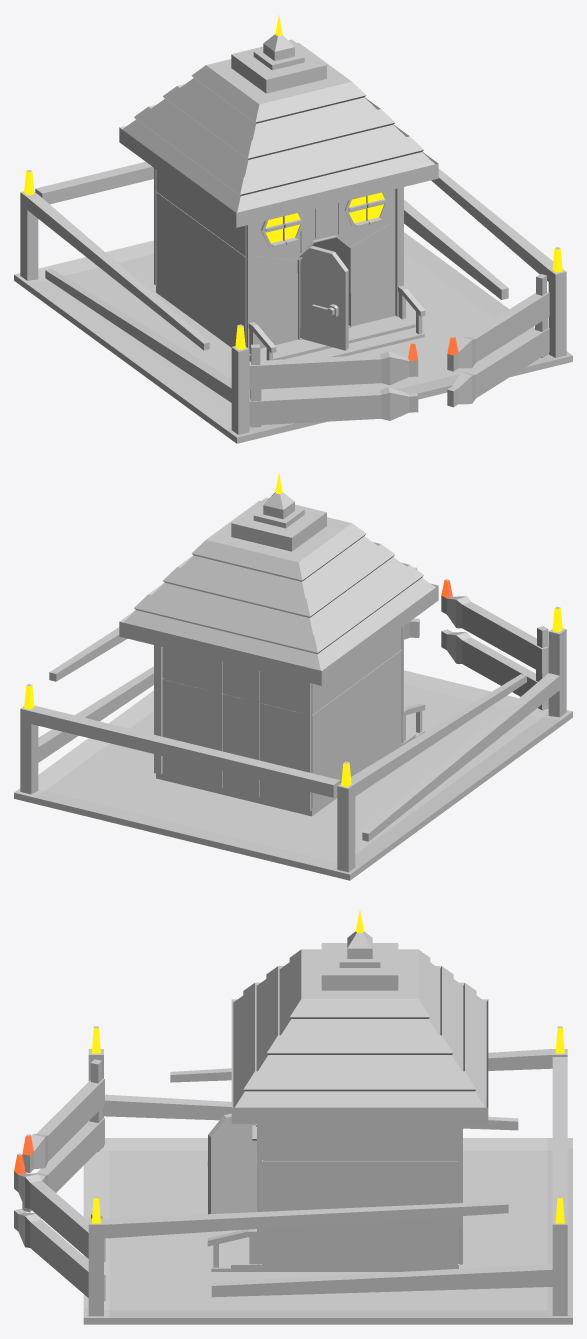
File: house.gltf
The picture shows the model from 3 angles, top to bottom: view 1: azimuth 30°, elevation 25°; view 2: azimuth 150°, elevation 25°; view 3: azimuth 270°, elevation 25°; orthographic projection. The views are drawn at different scales.
Visible parts, largest first — view 1: Cube, Cube.004, Cube.003, Cube.002, Cube.001; view 2: Cube, Cube.004, Cube.003; view 3: Cube, Cube.004, Cube.002, Cube.003, Cube.001.
Part boxes in pixels (x1,y1,x2,y2): Cube: [20, 15, 566, 434]; Cube.004: [14, 232, 572, 443]; Cube.003: [249, 342, 418, 427]; Cube.002: [447, 274, 549, 407]; Cube.001: [299, 246, 348, 350]; Cube: [20, 473, 566, 872]; Cube.004: [14, 670, 572, 880]; Cube.003: [441, 579, 548, 710]; Cube: [88, 910, 567, 1316]; Cube.004: [83, 1138, 572, 1324]; Cube.002: [14, 1153, 105, 1301]; Cube.003: [22, 1059, 104, 1212]; Cube.001: [208, 1113, 256, 1214].
Bounding box in the file's own units: 4.31 × 3.63 × 5.65.
